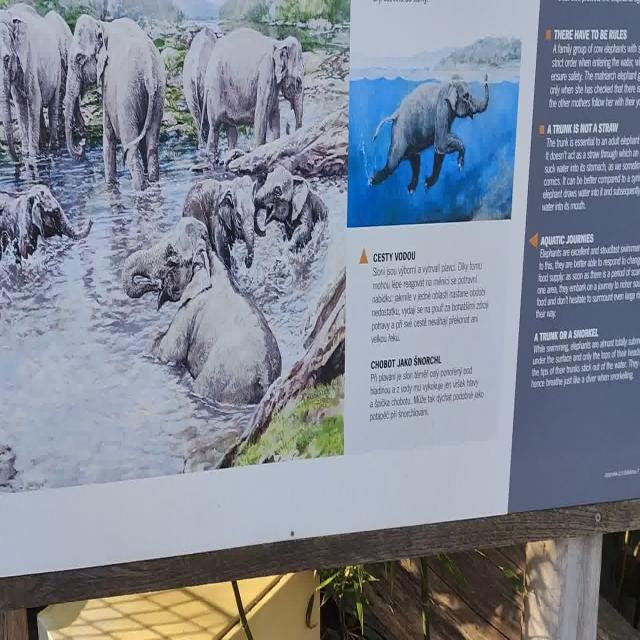elephant: (122, 216, 282, 406), (65, 14, 165, 191), (370, 73, 489, 196), (200, 28, 304, 153), (1, 9, 62, 162), (0, 183, 94, 264), (182, 175, 258, 270), (254, 165, 328, 254), (183, 28, 217, 149)
